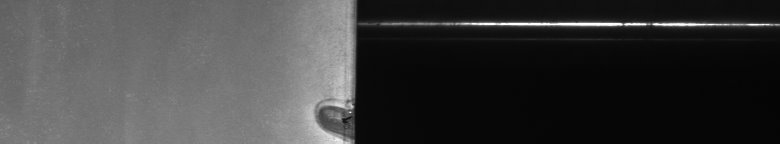hb: (306, 92, 344, 136)
